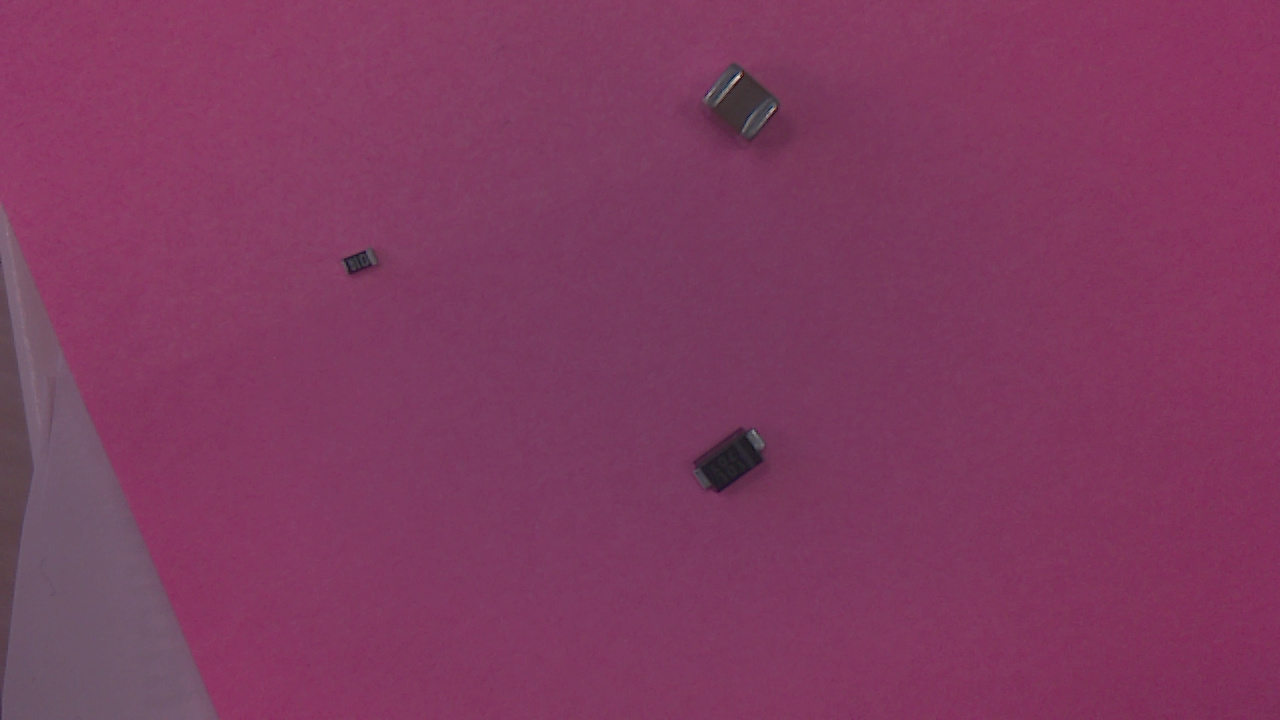Condensator: (706, 70, 789, 148)
Diode: (693, 432, 774, 501)
Resistor: (346, 245, 390, 285)
